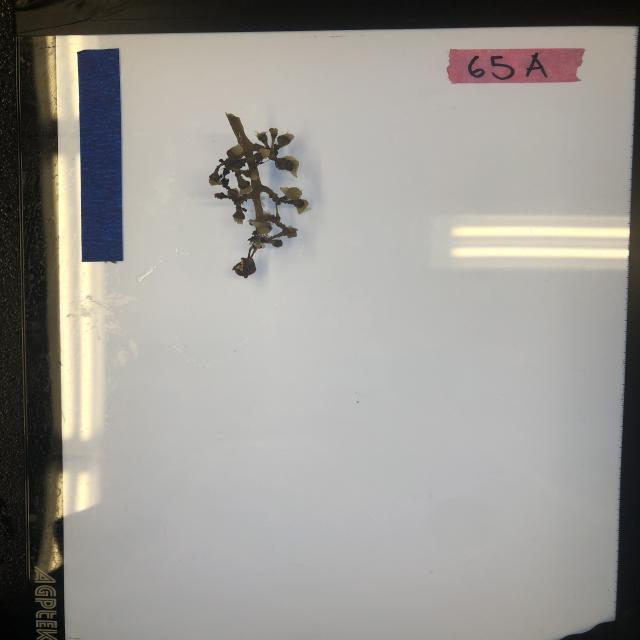index: (447, 47, 584, 84)
measure_label: (76, 45, 126, 263)
rachis_cluster: (208, 109, 311, 280)
